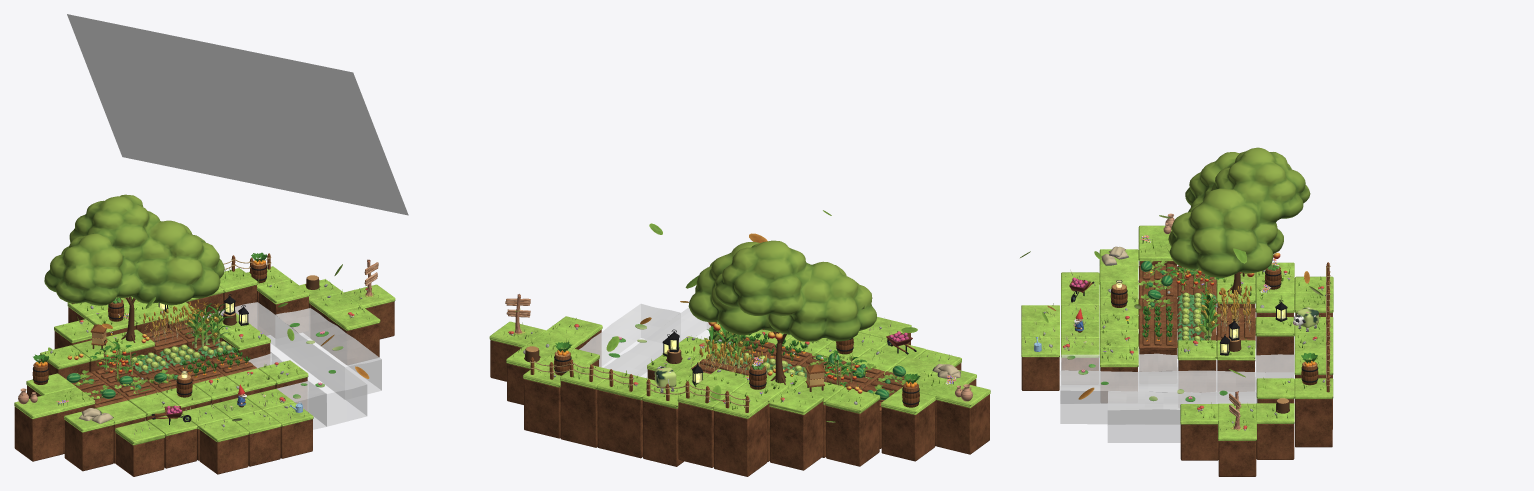
The model's file is farm_diorama.glb.
The picture shows the model from 3 angles, left to right: view 1: azimuth 30°, elevation 25°; view 2: azimuth 150°, elevation 25°; view 3: azimuth 270°, elevation 25°; orthographic projection. The views are drawn at different scales.
Visible parts, largest first — view 1: Plane, AppleTree_Canopy, Water_Block_r2c4, Water_Block_r2c4.001, Tile_Grass_r2c0.008, Tile_Grass_r1c4.007, Tile_Grass_r2c0.003, Tile_Grass_r0c1.001, Tile_Grass_r0c0.002, Tile_Grass_r1c4.002, Tile_Grass_r0c0.003, Tile_Grass_r0c0.004 (+40 smaller); view 2: AppleTree_Canopy, Water_Block_r2c4.001, Tile_Grass_r5c1.001, Tile_Grass_r5c0, Tile_Grass_r4c0.001, Tile_Grass_r5c3.002, Tile_Grass_r2c0.008, Tile_Grass_r2c0.007, Tile_Grass_r1c4.001, Tile_Grass_r5c2.001, Tile_Grass_r5c3.001, Tile_Grass_r1c4.004 (+14 smaller); view 3: AppleTree_Canopy, Water_Block_r2c4, Water_Block_r2c4.001, Tile_Grass_r1c4.004, Tile_Grass_r1c4.007, Tile_Grass_r1c4.006, Tile_Grass_r1c4.005, Tile_Grass_r5c3, Tile_Grass_r0c0.004, Tile_Grass_r3c4, Tile_Grass_r1c4, Tile_Grass_r4c4 (+27 smaller).
Part boxes in pixels (left/top/right/bottom): Plane: left=67, top=14, right=408, bottom=215; AppleTree_Canopy: left=44, top=194, right=224, bottom=305; Water_Block_r2c4: left=218, top=302, right=367, bottom=426; Water_Block_r2c4.001: left=275, top=308, right=381, bottom=399; Tile_Grass_r2c0.008: left=14, top=395, right=63, bottom=461; Tile_Grass_r1c4.007: left=328, top=306, right=380, bottom=364; Tile_Grass_r2c0.003: left=64, top=408, right=114, bottom=471; Tile_Grass_r0c1.001: left=115, top=420, right=164, bottom=476; Tile_Grass_r0c0.002: left=199, top=418, right=248, bottom=474; Tile_Grass_r1c4.002: left=258, top=280, right=309, bottom=337; Tile_Grass_r0c0.003: left=231, top=410, right=281, bottom=466; Tile_Grass_r0c0.004: left=263, top=402, right=313, bottom=458; AppleTree_Canopy: left=688, top=240, right=876, bottom=341; Water_Block_r2c4.001: left=579, top=303, right=680, bottom=376; Tile_Grass_r5c1.001: left=713, top=392, right=767, bottom=476; Tile_Grass_r5c0: left=769, top=388, right=823, bottom=470; Tile_Grass_r4c0.001: left=825, top=387, right=880, bottom=466; Tile_Grass_r5c3.002: left=596, top=371, right=657, bottom=458; Tile_Grass_r2c0.008: left=936, top=381, right=990, bottom=454; Tile_Grass_r2c0.007: left=881, top=388, right=935, bottom=461; Tile_Grass_r1c4.001: left=560, top=362, right=615, bottom=447; Tile_Grass_r5c2.001: left=677, top=383, right=732, bottom=467; Tile_Grass_r5c3.001: left=642, top=385, right=689, bottom=466; Tile_Grass_r1c4.004: left=523, top=360, right=560, bottom=438; AppleTree_Canopy: left=1168, top=147, right=1310, bottom=277; Water_Block_r2c4: left=1060, top=370, right=1294, bottom=424; Water_Block_r2c4.001: left=1107, top=390, right=1256, bottom=442; Tile_Grass_r1c4.004: left=1294, top=378, right=1333, bottom=447; Tile_Grass_r1c4.007: left=1180, top=404, right=1218, bottom=460; Tile_Grass_r1c4.006: left=1218, top=420, right=1256, bottom=476; Tile_Grass_r1c4.005: left=1256, top=403, right=1294, bottom=459; Tile_Grass_r5c3: left=1255, top=317, right=1294, bottom=371; Tile_Grass_r0c0.004: left=1021, top=338, right=1059, bottom=390; Tile_Grass_r3c4: left=1177, top=340, right=1216, bottom=392; Tile_Grass_r1c4: left=1100, top=347, right=1138, bottom=402; Tile_Grass_r4c4: left=1216, top=340, right=1255, bottom=391.
Size of the model in its own units: 13.6 by 9.68 by 12.83.
Materials: 147 (47 with a texture image).
